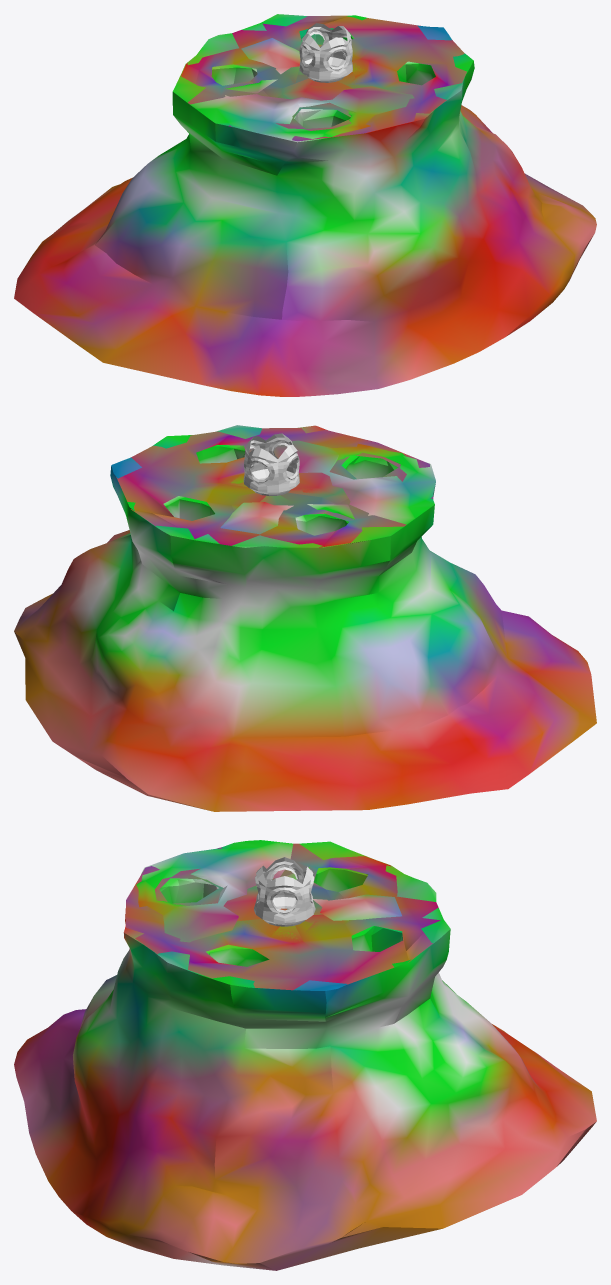
The model's file is floor-01-area-13.fbx.
3 renders of one model, top to bottom at view 1: azimuth 30°, elevation 25°; view 2: azimuth 150°, elevation 25°; view 3: azimuth 270°, elevation 25°, orthographic. The views are drawn at different scales.
Visible parts, largest first — view 1: Platform, Platform-Surface-Closed, Platform-Floor, TentacleBoss-Main, Platform-Surface-Open; view 2: Platform, Platform-Surface-Closed, Platform-Floor, TentacleBoss-Main, Platform-Surface-Open; view 3: Platform, Platform-Surface-Closed, Platform-Floor, TentacleBoss-Main, Platform-Surface-Open.
Part boxes in pixels (left/top/right/bottom): Platform: left=14, top=34, right=596, bottom=396; Platform-Surface-Closed: left=181, top=15, right=466, bottom=141; Platform-Floor: left=173, top=14, right=473, bottom=142; TentacleBoss-Main: left=299, top=23, right=352, bottom=82; Platform-Surface-Open: left=264, top=48, right=381, bottom=98; Platform: left=14, top=446, right=596, bottom=811; Platform-Surface-Closed: left=116, top=428, right=433, bottom=547; Platform-Floor: left=111, top=425, right=435, bottom=547; TentacleBoss-Main: left=243, top=433, right=299, bottom=496; Platform-Surface-Open: left=192, top=472, right=347, bottom=506; Platform: left=14, top=868, right=596, bottom=1270; Platform-Surface-Closed: left=126, top=843, right=440, bottom=990; Platform-Floor: left=124, top=840, right=450, bottom=990; TentacleBoss-Main: left=254, top=857, right=315, bottom=926; Platform-Surface-Open: left=220, top=900, right=345, bottom=949.
Size of the model in its own units: 2171 by 1092 by 1863.
